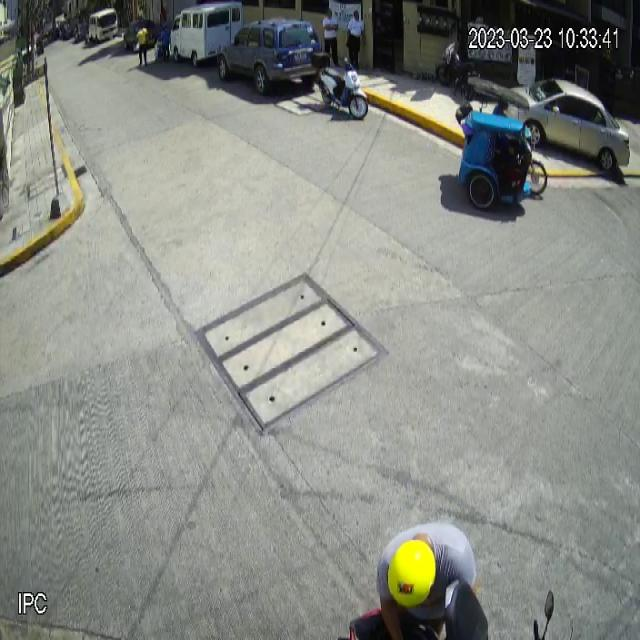Car: (501, 79, 631, 172), (216, 16, 322, 96)
Motorcycle: (311, 51, 368, 121)
Tricycle: (454, 74, 549, 212)
Van: (169, 0, 243, 67)
